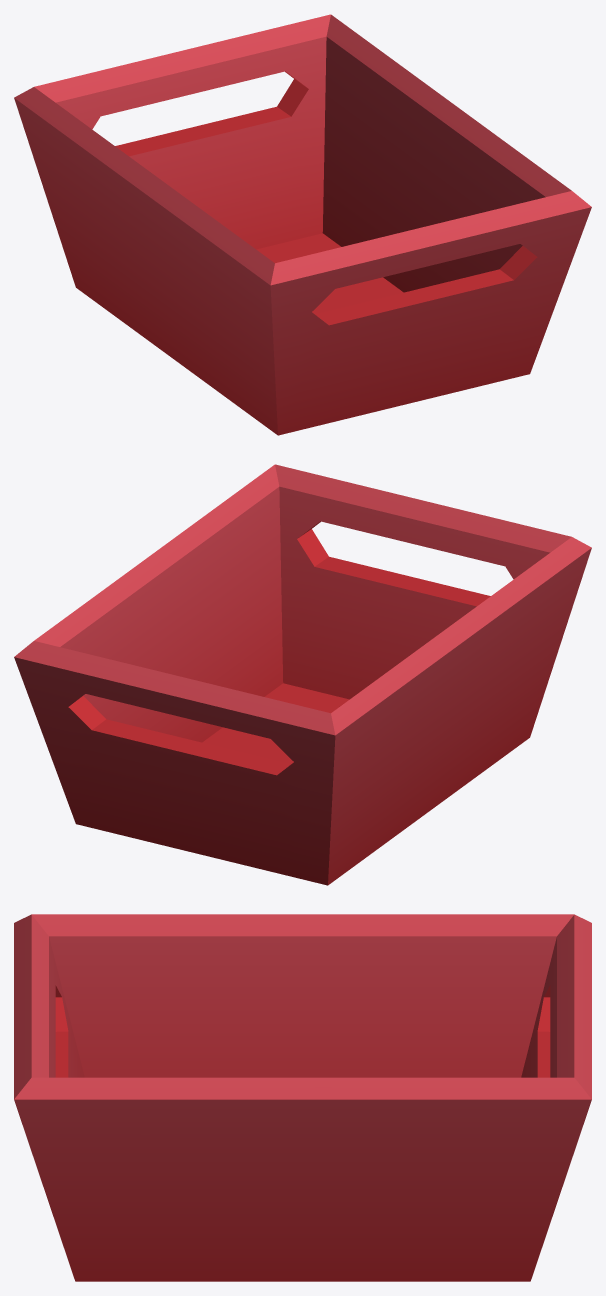
Rendered from Bucket_Red.fbx.
The picture shows the model from 3 angles, top to bottom: view 1: azimuth 30°, elevation 25°; view 2: azimuth 150°, elevation 25°; view 3: azimuth 270°, elevation 25°; orthographic projection. The views are drawn at different scales.
Visible parts, largest first — view 1: Plane.086; view 2: Plane.086; view 3: Plane.086.
Part boxes in pixels (x1=…): Plane.086: x1=14, y1=14, x2=591, y2=435; Plane.086: x1=14, y1=464, x2=591, y2=885; Plane.086: x1=14, y1=914, x2=591, y2=1281.
Size of the model in its own units: 59.38 by 33.9 by 82.11.
